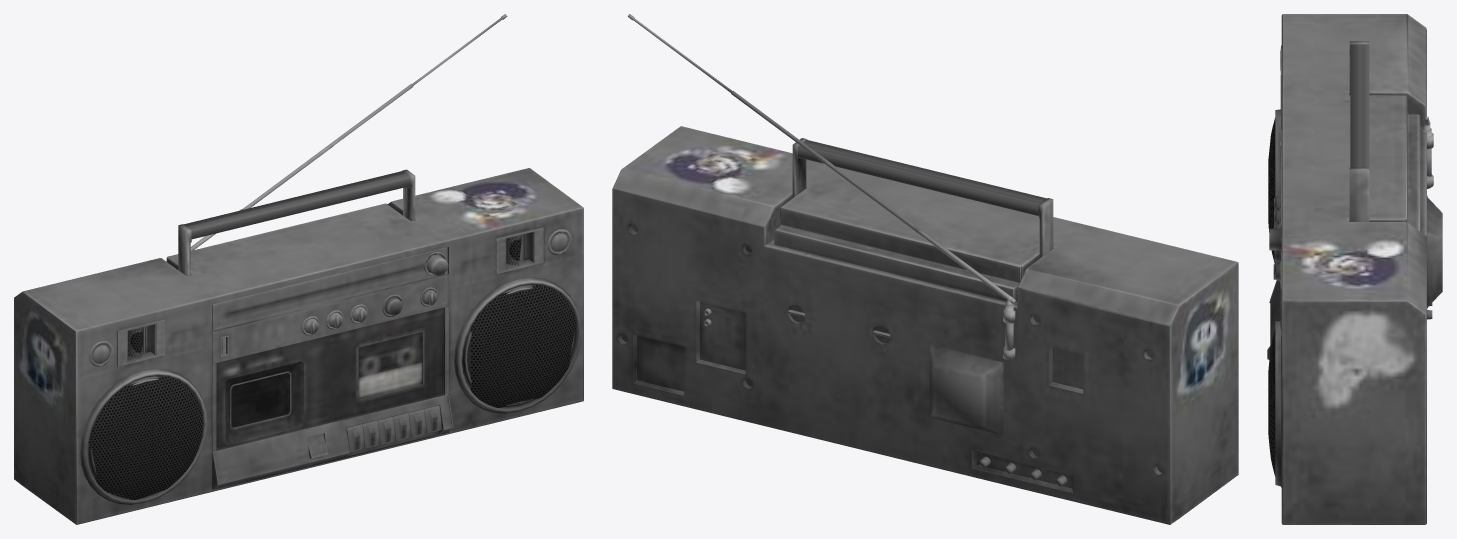
File: boombox.lite.66fc6813.glb
3 views of the same model, side by side, from view 1: azimuth 30°, elevation 25°; view 2: azimuth 150°, elevation 25°; view 3: azimuth 270°, elevation 25° (orthographic). The views are drawn at different scales.
Visible parts, largest first — view 1: model; view 2: model; view 3: model.
Part boxes in pixels (bbox=[...]): model: bbox=[14, 14, 583, 524]; model: bbox=[612, 14, 1238, 524]; model: bbox=[1267, 14, 1442, 524].
Size of the model in its own units: 0.7238 by 0.4698 by 0.1865.
2 materials, 2 textured.
